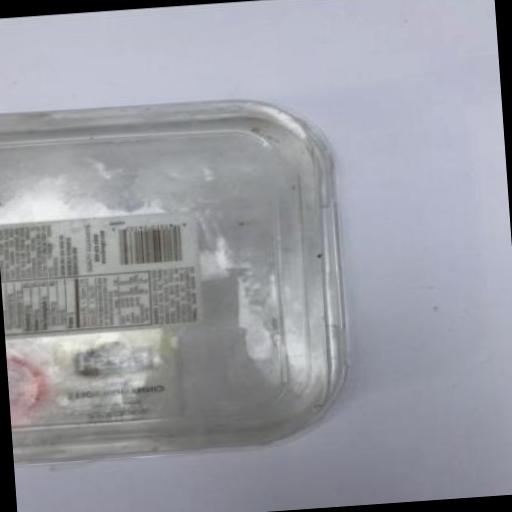plastic: (0, 88, 359, 466)
